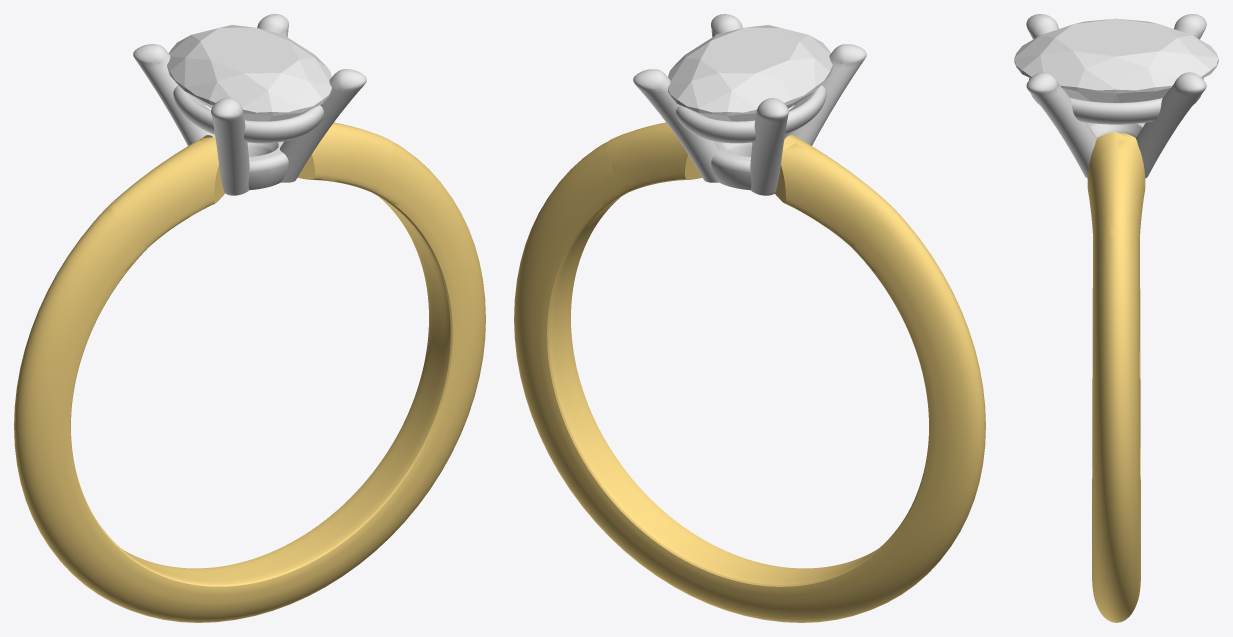
Rendered from Matt_N_v2_taper_blender.glb.
3 views of the same model, side by side, from view 1: azimuth 30°, elevation 25°; view 2: azimuth 150°, elevation 25°; view 3: azimuth 270°, elevation 25° (orthographic).
Parts seen in each view (by area): view 1: v2 taper YG for 3d model, Nelson PT for 3d model, Nelson dia for 3d model; view 2: v2 taper YG for 3d model, Nelson PT for 3d model, Nelson dia for 3d model; view 3: v2 taper YG for 3d model, Nelson dia for 3d model, Nelson PT for 3d model.
Boxes of the visible parts, box(x1,y1,x2,y2) form: v2 taper YG for 3d model: box(14, 122, 485, 622); Nelson PT for 3d model: box(133, 14, 366, 195); Nelson dia for 3d model: box(167, 25, 331, 121); v2 taper YG for 3d model: box(514, 122, 985, 622); Nelson PT for 3d model: box(633, 14, 866, 195); Nelson dia for 3d model: box(668, 25, 832, 121); v2 taper YG for 3d model: box(1087, 132, 1145, 622); Nelson dia for 3d model: box(1014, 18, 1218, 102); Nelson PT for 3d model: box(1026, 14, 1206, 178).
Bounding box in the file's own units: 19.7 × 22.69 × 7.5.
